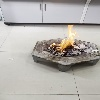fire: (52, 25, 79, 53)
